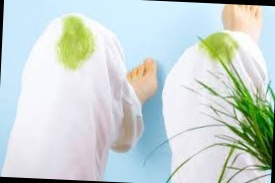earth: (58, 17, 95, 70), (206, 34, 235, 56)
